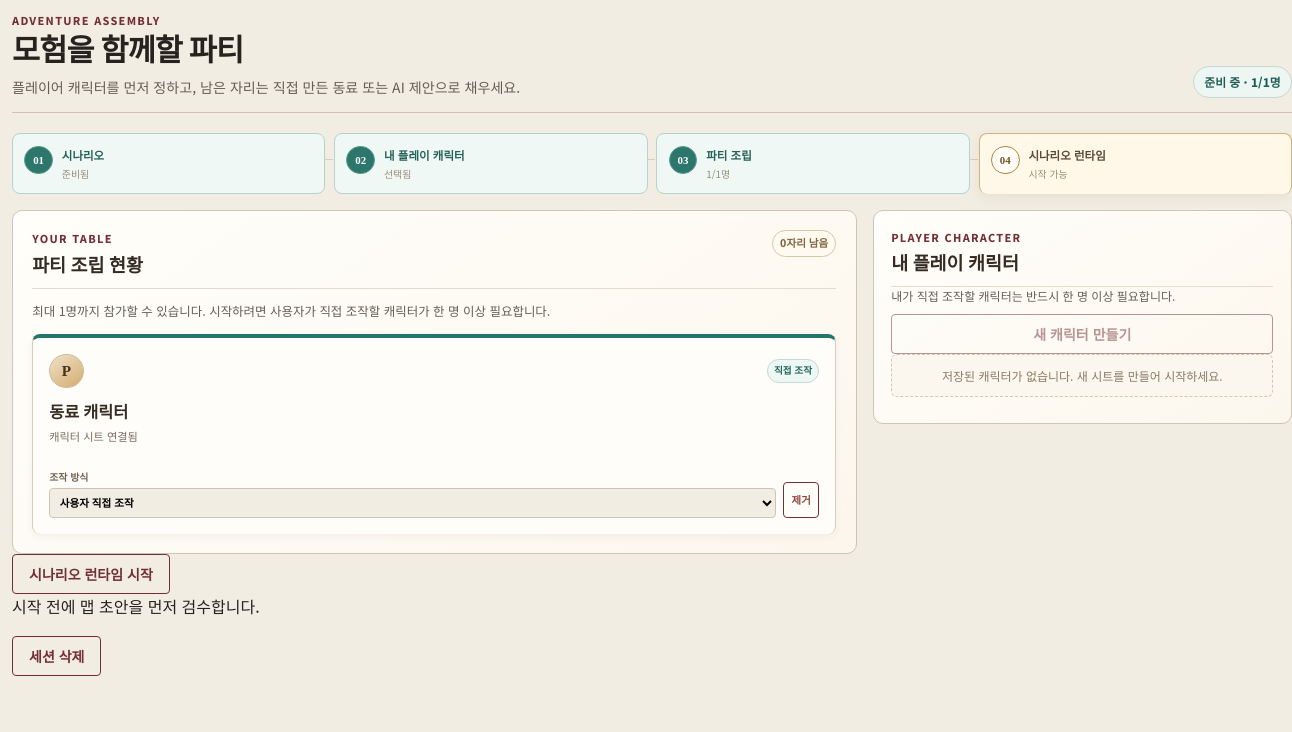
Scenario: AdventureSessionPanel lifecycle › shows runtime preparation progress and ignores repeated starts
The image size is (1292, 732).
What coordinates should you click on to do the following:
click the button "시나리오 런타임 시작"
I would click on:
 (91, 574)
Its box is [12,554,170,594].
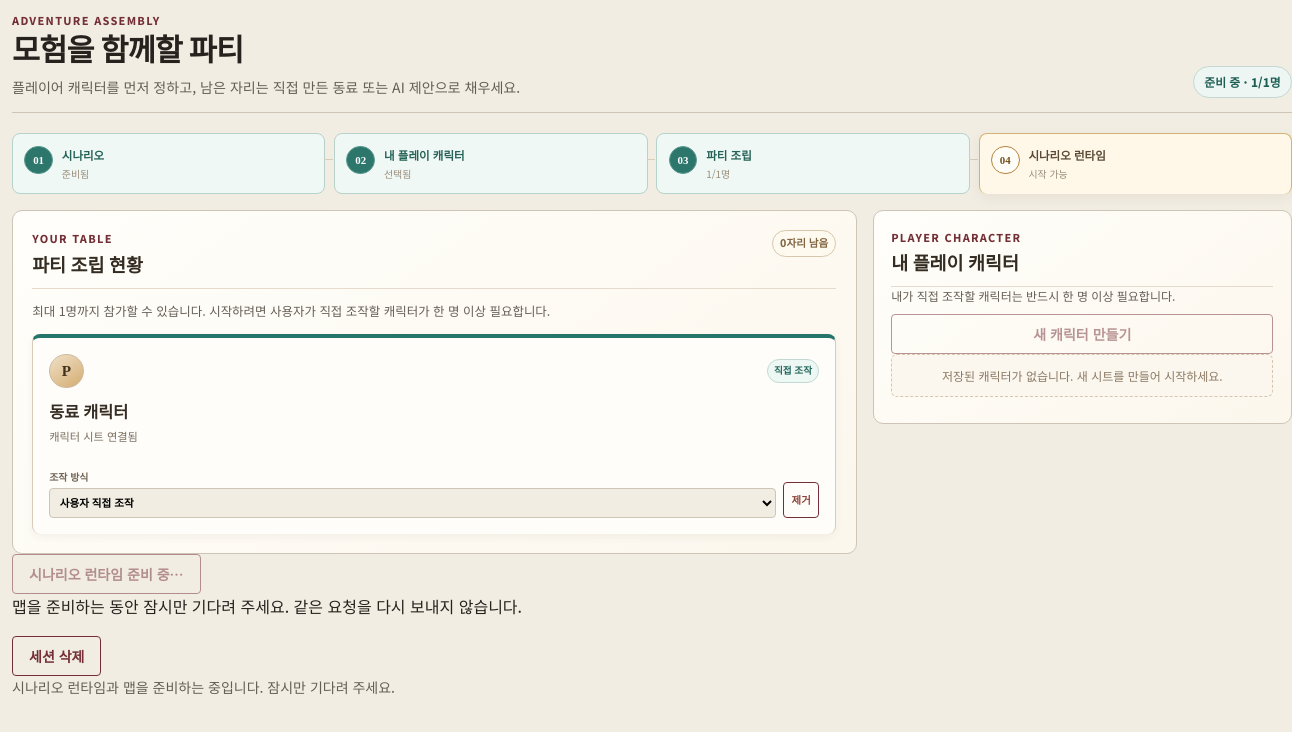
Expected: the button "시나리오 런타임 준비 중…" is disabled
Expected: the text "맵을 준비하는 동안 잠시만 기다려 주세요. 같은 요청을 다시 보내지 않습니다." is shown, [12,594,522,618]
What coordinates should you click on to do the following:
click the button "시나리오 런타임 준비 중…"
I would click on:
 (106, 574)
Its box is [12,554,201,594].
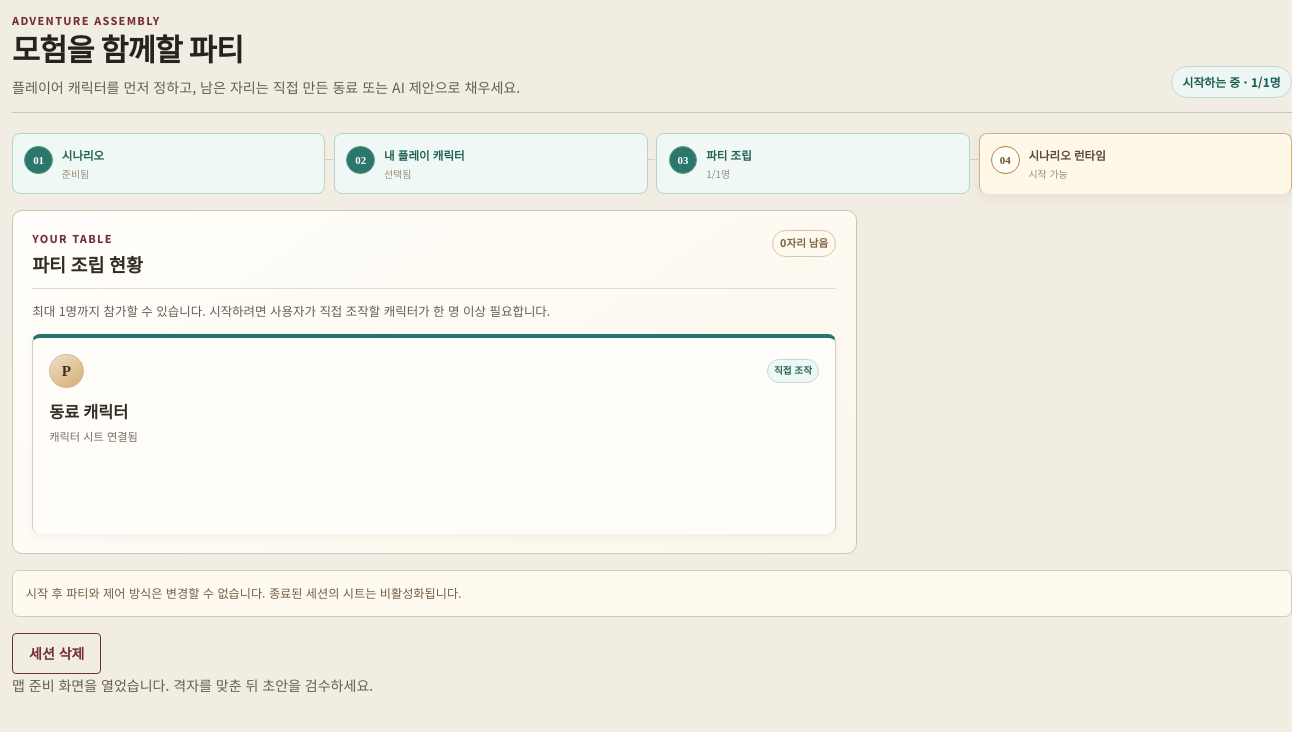
Expected: the button "시나리오 런타임 준비 중…" is gone
